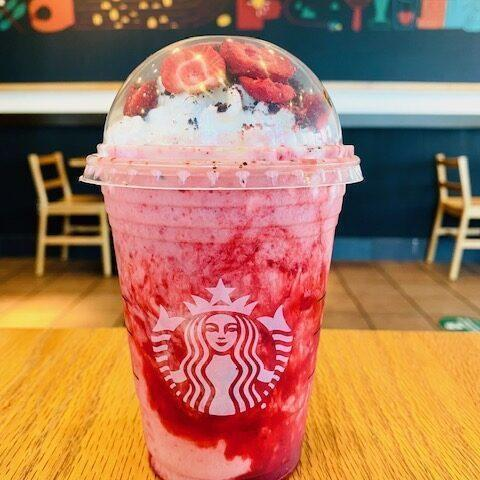cup-disposable: (78, 35, 364, 479)
